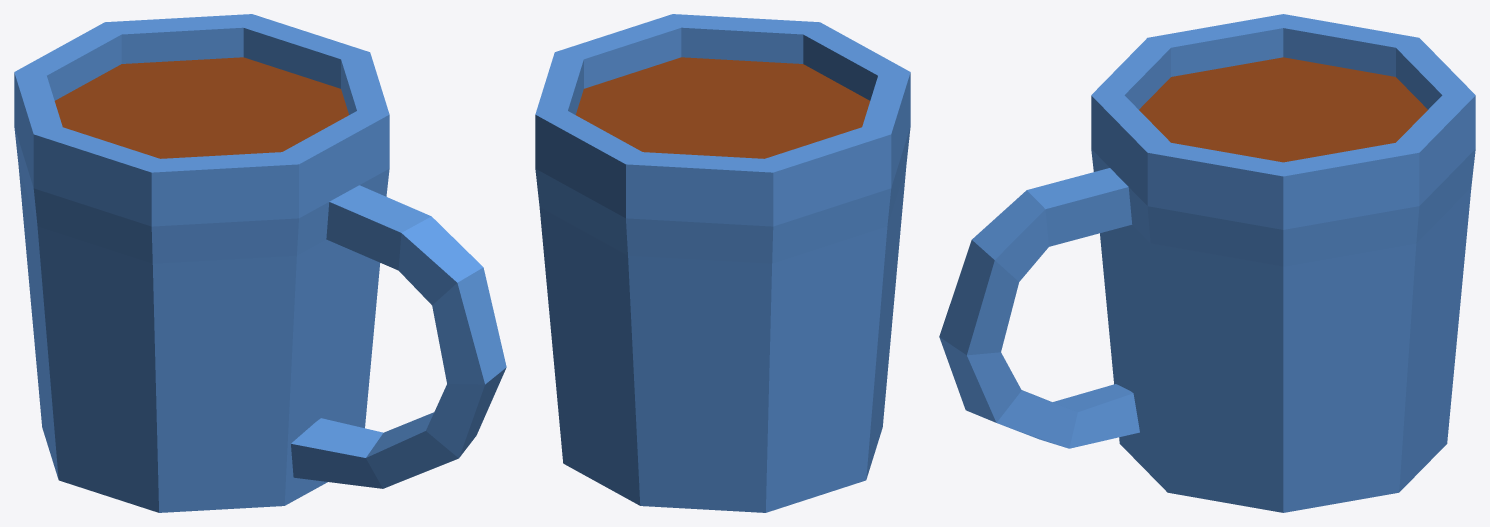
The model's file is coffee.fbx.
3 renders of one model, left to right at view 1: azimuth 30°, elevation 25°; view 2: azimuth 150°, elevation 25°; view 3: azimuth 270°, elevation 25°, orthographic.
Parts seen in each view (by area): view 1: coffee; view 2: coffee; view 3: coffee.
Part boxes in pixels (x1=…): coffee: x1=14, y1=14, x2=506, y2=512; coffee: x1=535, y1=14, x2=910, y2=512; coffee: x1=939, y1=14, x2=1475, y2=512.
Bounding box in the file's own units: 0.3484 × 0.3484 × 0.486.
